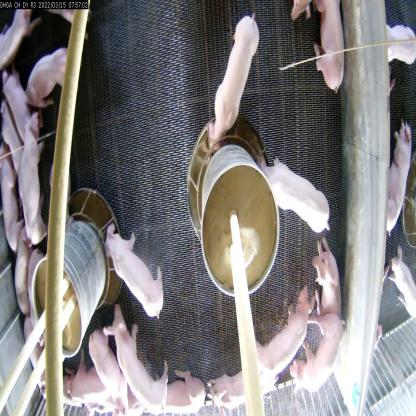Pig: (210, 13, 260, 149), (106, 218, 171, 320), (106, 306, 167, 413), (254, 287, 320, 377), (257, 160, 331, 233), (293, 313, 349, 403), (16, 114, 48, 248), (209, 359, 285, 415), (83, 332, 129, 413), (25, 40, 74, 108), (140, 366, 206, 416), (309, 232, 347, 316), (66, 359, 112, 415), (0, 73, 34, 136), (0, 146, 20, 246)
